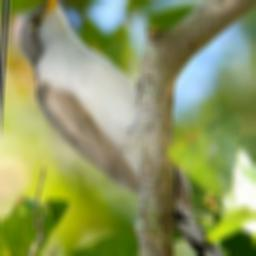Cuckoo: (2, 0, 256, 256)
